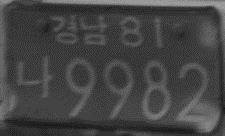1: (150, 14, 167, 52)
2: (175, 59, 211, 124)
8: (139, 57, 173, 122), (117, 14, 143, 49)
9: (62, 56, 98, 120), (102, 57, 136, 124)
경남_O: (49, 12, 108, 48)
나: (15, 52, 55, 102)
